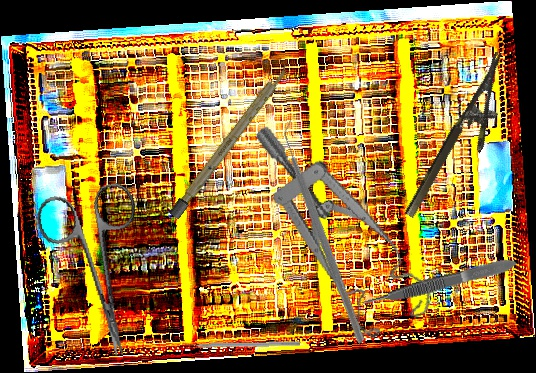Chopper: (208, 114, 447, 345), (179, 334, 301, 349)
Iris Scissors: (32, 180, 165, 367)
Needle Holder: (402, 51, 529, 231)
Scalpel Handle: (168, 62, 292, 220)
Speculum: (252, 96, 439, 355)
Tissue Forceps: (358, 255, 519, 311)
